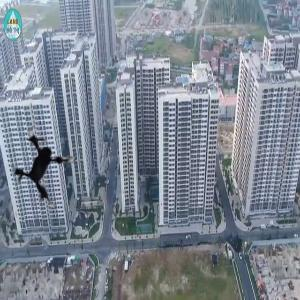drone: (1, 119, 98, 216)
